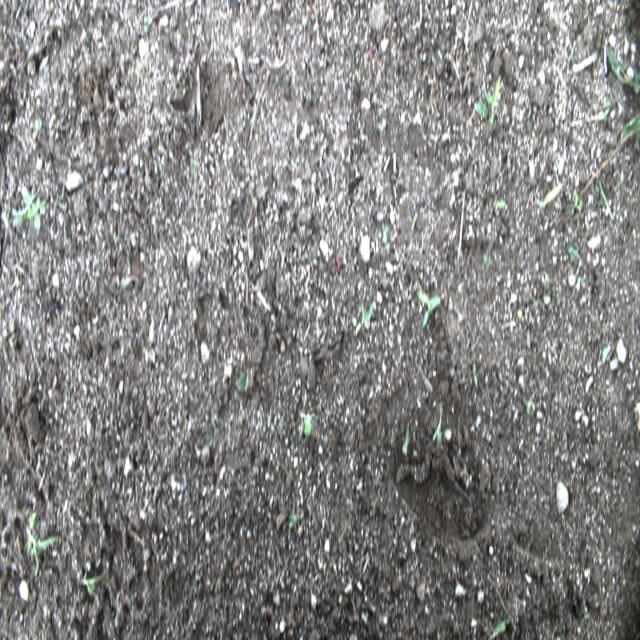weed: (22, 510, 59, 579), (606, 44, 638, 96), (416, 279, 444, 331), (475, 73, 501, 128), (16, 186, 47, 223), (538, 181, 564, 212), (298, 404, 318, 442), (621, 110, 639, 151), (487, 610, 511, 640), (82, 568, 106, 598), (594, 176, 610, 208), (572, 198, 585, 233), (433, 401, 443, 446), (27, 116, 43, 142), (565, 230, 577, 264), (545, 619, 564, 639), (360, 302, 373, 331), (402, 419, 412, 456), (536, 278, 547, 310), (235, 368, 248, 395), (200, 433, 217, 452), (598, 100, 611, 122), (570, 192, 581, 215), (217, 382, 228, 404), (38, 54, 49, 73), (144, 12, 154, 32), (289, 510, 298, 532), (4, 327, 17, 342), (5, 431, 11, 463), (376, 223, 388, 239), (580, 609, 592, 624), (527, 394, 536, 414), (188, 157, 200, 172), (482, 250, 490, 272), (343, 516, 352, 535), (516, 306, 524, 325), (472, 360, 477, 390), (557, 344, 564, 365), (495, 198, 506, 211), (411, 210, 418, 230), (112, 233, 121, 243), (368, 423, 376, 434), (380, 428, 386, 442), (104, 90, 110, 104), (270, 422, 276, 434), (62, 383, 68, 395), (630, 314, 635, 328), (84, 34, 91, 44), (622, 17, 628, 28), (233, 586, 239, 596), (228, 472, 233, 484), (568, 46, 573, 56)
